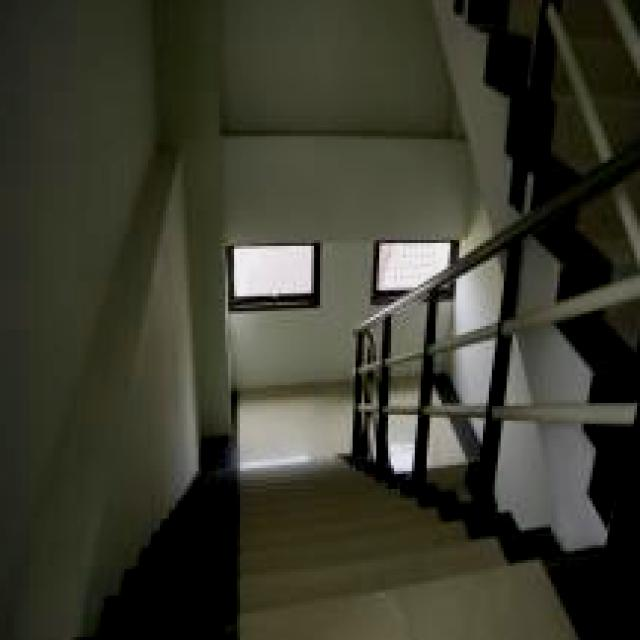downstair: (129, 460, 449, 640)
